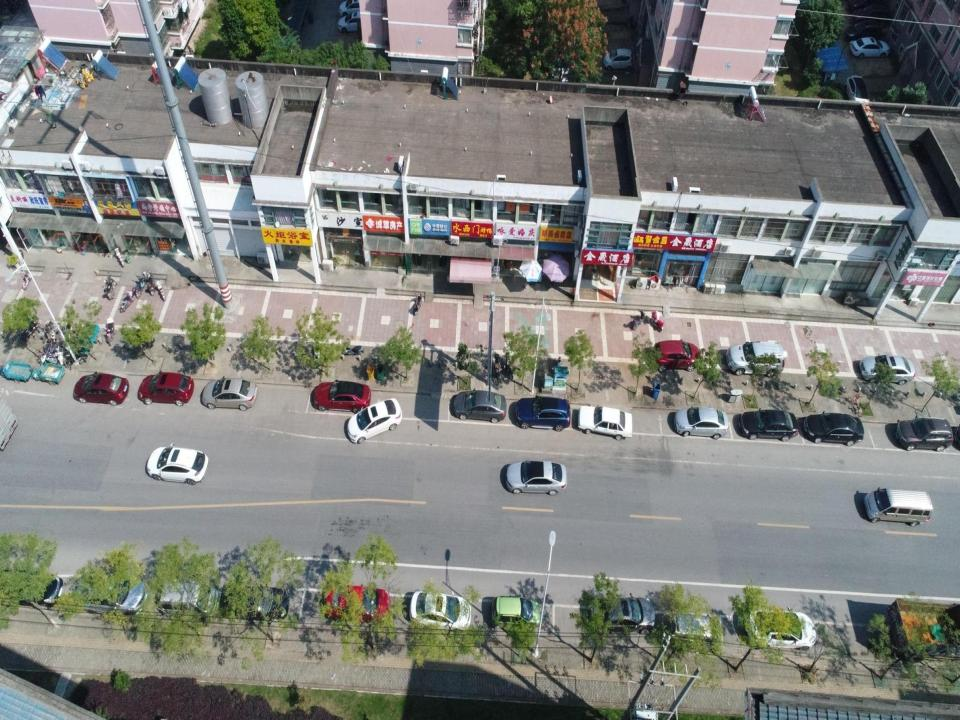car: (71, 573, 148, 617), (746, 606, 816, 652), (589, 592, 655, 636), (324, 584, 392, 626), (218, 583, 290, 622), (146, 442, 209, 486), (409, 590, 472, 634), (156, 579, 218, 622), (346, 398, 403, 444), (504, 457, 568, 497), (1, 569, 64, 609), (802, 410, 865, 447), (725, 341, 788, 377), (895, 415, 954, 453), (312, 379, 371, 414), (577, 405, 633, 441), (515, 395, 571, 431), (138, 370, 194, 406), (73, 370, 129, 406), (740, 408, 799, 442), (201, 376, 258, 411), (453, 388, 507, 424), (674, 405, 729, 440), (859, 353, 916, 386), (491, 594, 540, 632), (652, 339, 701, 372), (844, 19, 884, 43), (849, 37, 890, 59), (851, 4, 892, 26), (844, 74, 870, 106), (337, 10, 371, 34), (604, 48, 634, 72), (338, 0, 369, 17)
truck: (888, 596, 960, 664)
van: (864, 487, 934, 528), (668, 612, 725, 646)
